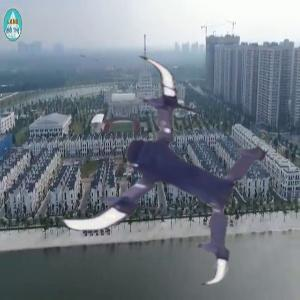drone: (54, 60, 271, 277)
